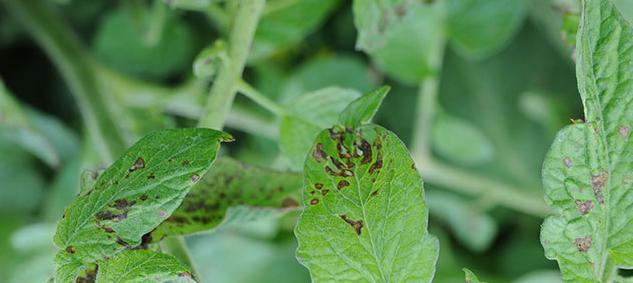Tomato leaf bacterial spot: (36, 103, 201, 283), (533, 0, 633, 283), (304, 84, 443, 283)
